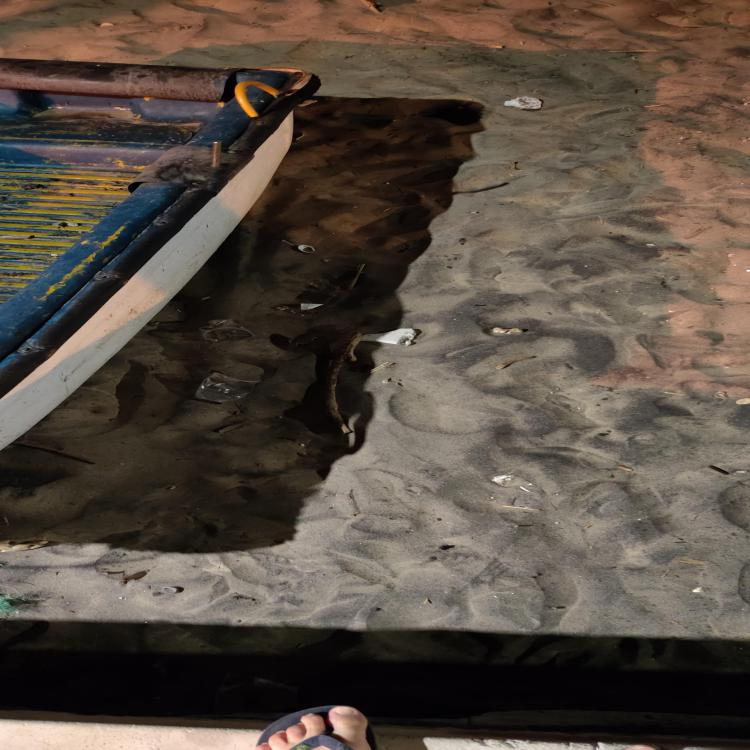Disposable plastic cup: (195, 373, 256, 404), (198, 319, 255, 341)
Rope - strings: (0, 593, 22, 614)
Unlabeled litter: (362, 328, 417, 346), (301, 303, 324, 310)
